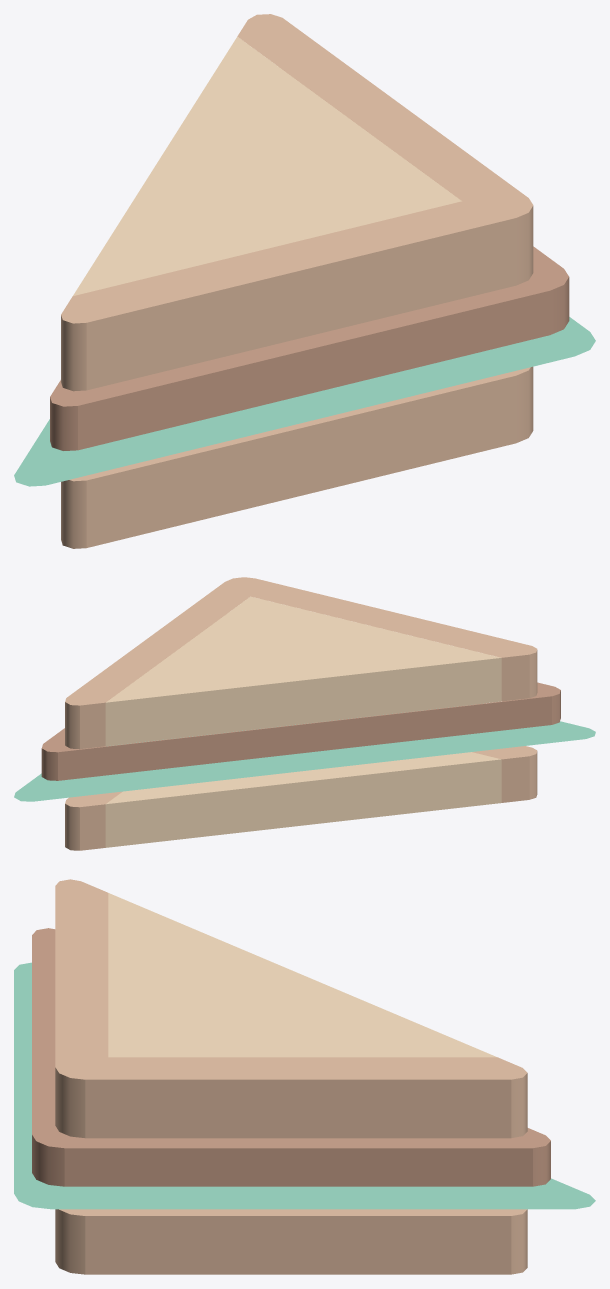
File: sandwich.glb
The picture shows the model from 3 angles, top to bottom: view 1: azimuth 30°, elevation 25°; view 2: azimuth 150°, elevation 25°; view 3: azimuth 270°, elevation 25°; orthographic projection. The views are drawn at different scales.
Parts seen in each view (by area): view 1: Mesh sandwich, meat, lettuce; view 2: Mesh sandwich, meat, lettuce; view 3: Mesh sandwich, meat, lettuce.
Part boxes in pixels (box(x1,y1,x2,y2)): Mesh sandwich: box(61, 14, 533, 548); meat: box(50, 246, 569, 450); lettuce: box(14, 317, 595, 486); Mesh sandwich: box(65, 577, 537, 850); meat: box(41, 682, 560, 780); lettuce: box(14, 703, 595, 801); Mesh sandwich: box(55, 879, 527, 1274); meat: box(32, 928, 550, 1186); lettuce: box(14, 962, 595, 1209).
Bounding box in the file's own units: 0.4339 × 0.1598 × 0.4324.
